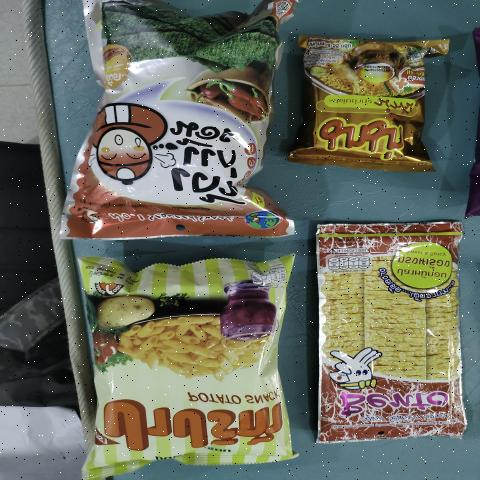bento_red: (324, 228, 458, 439)
mama: (300, 39, 436, 163)
paprika: (93, 266, 278, 464)
taokaenoi: (75, 3, 283, 228)
